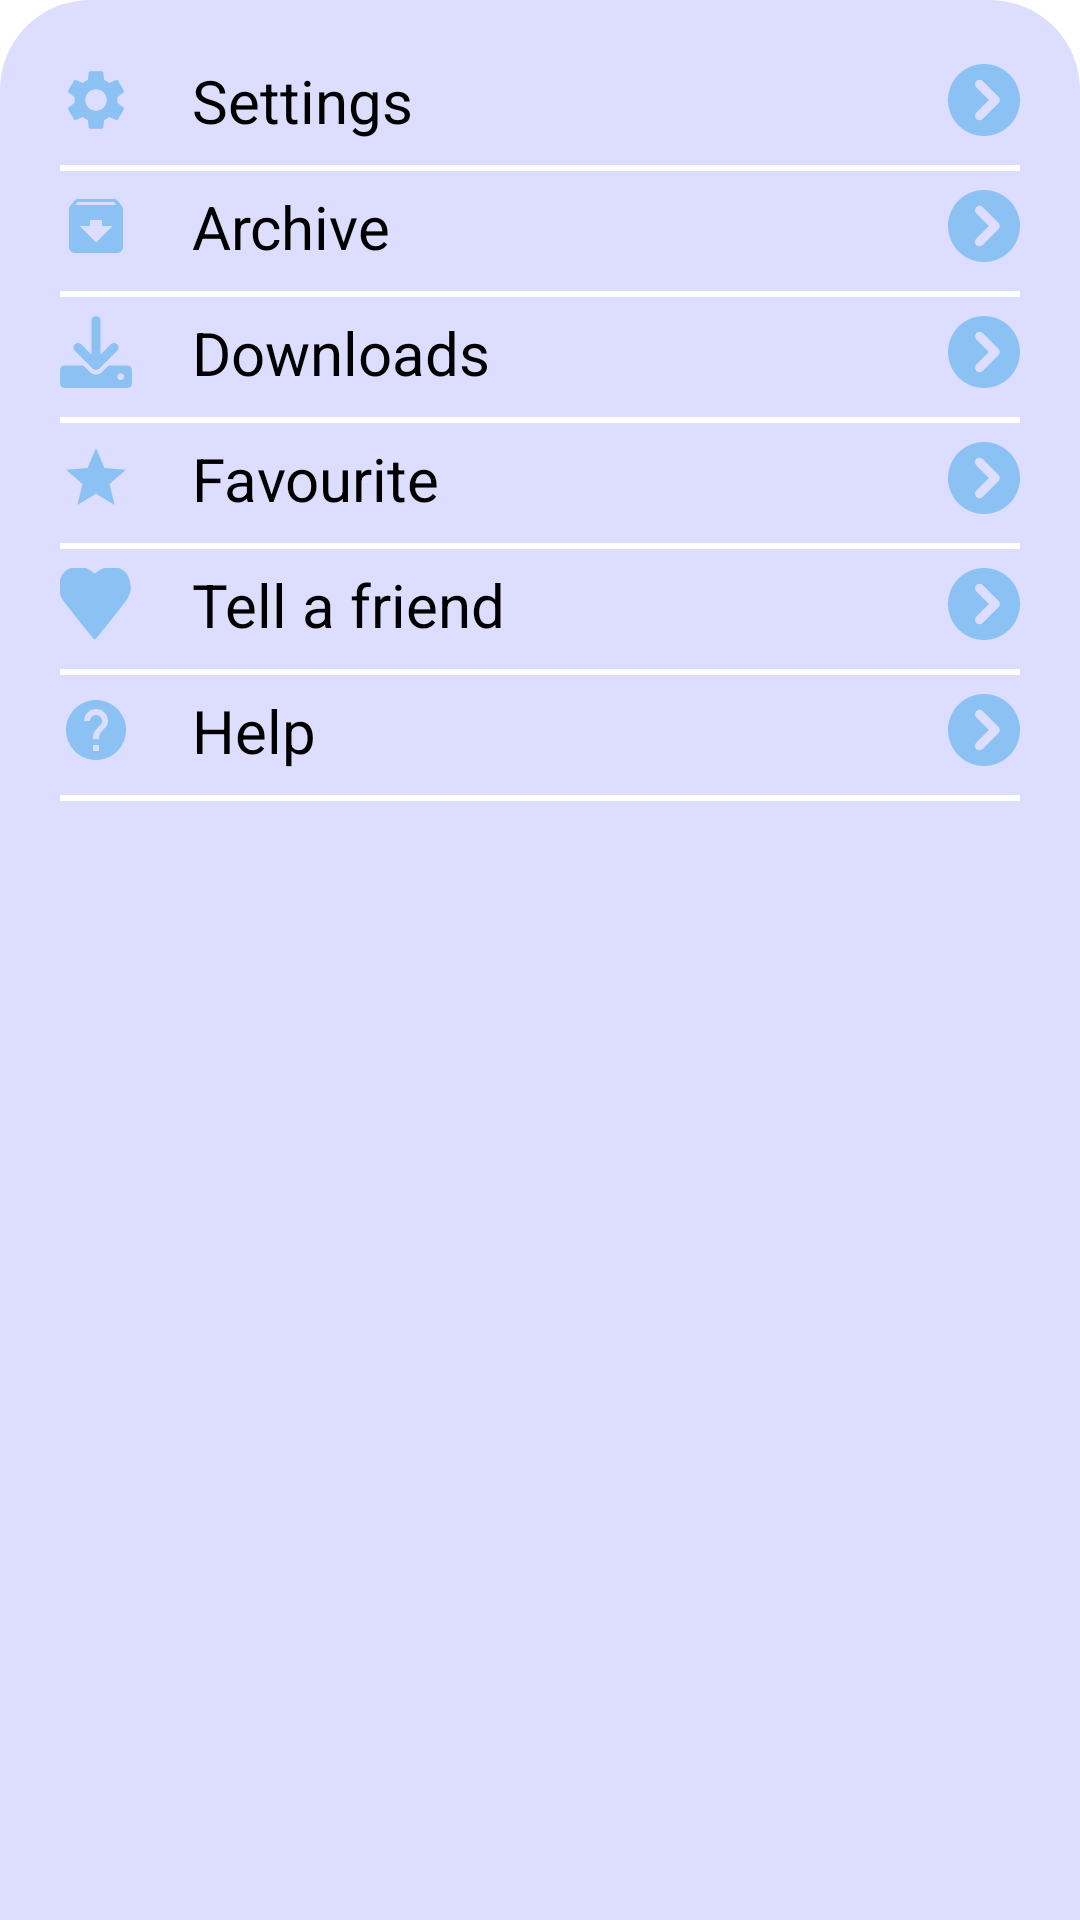

Named icons in this screenshot (1080×1920) and their bounding boxes, (x1, y1, x2, y2):
heart: (60, 568, 131, 639)
star: (67, 449, 125, 505)
